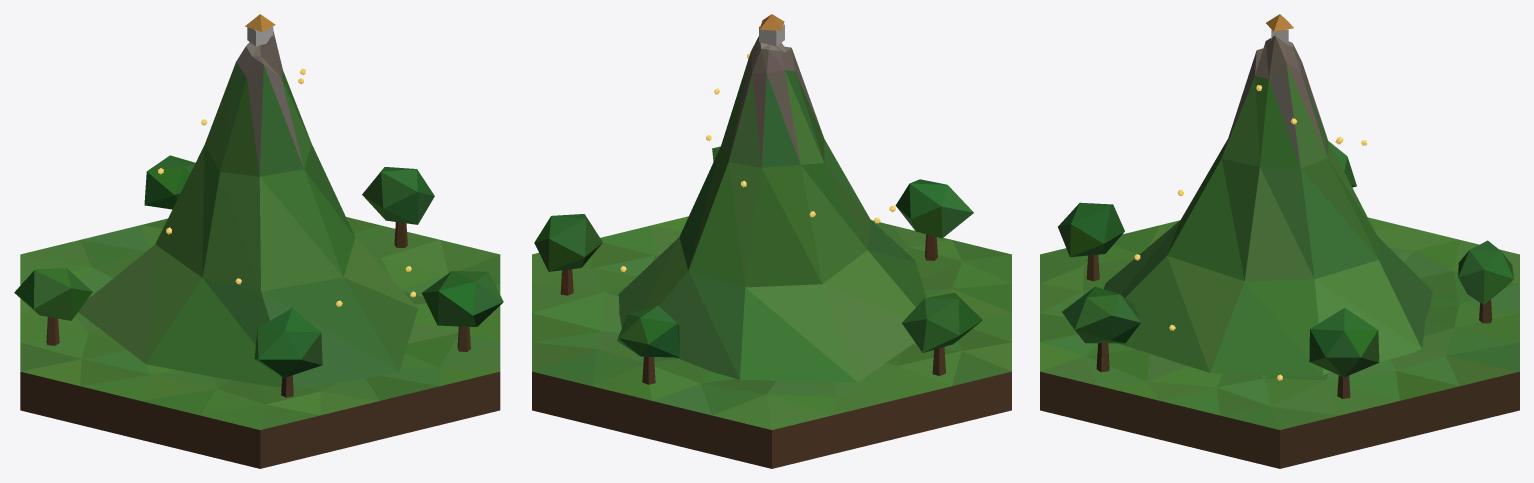
Rendered from Sri Pada.glb.
3 views of the same model, side by side, from view 1: azimuth 30°, elevation 25°; view 2: azimuth 150°, elevation 25°; view 3: azimuth 270°, elevation 25° (orthographic).
Visible parts, largest first — view 1: Sri Pada; view 2: Sri Pada; view 3: Sri Pada.
Part boxes in pixels (bbox=[...]): Sri Pada: bbox=[14, 14, 503, 468]; Sri Pada: bbox=[532, 14, 1011, 468]; Sri Pada: bbox=[1040, 14, 1519, 468].
Bounding box in the file's own units: 1.94 × 1.3 × 1.68.
